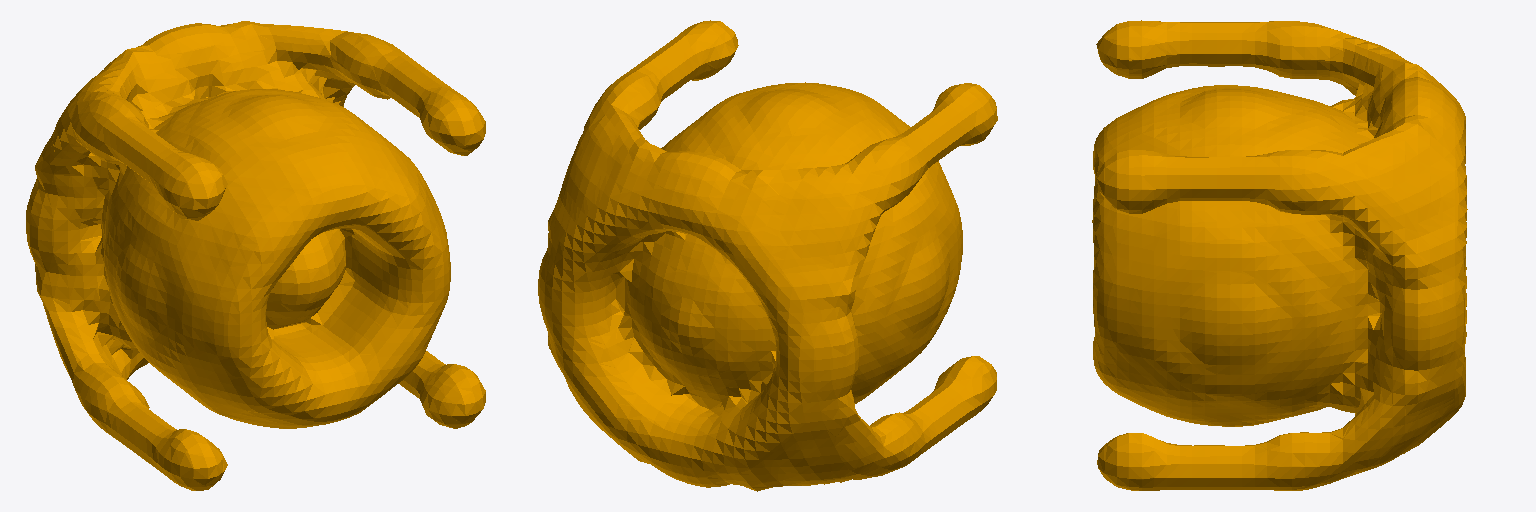
robot.urdf — object:
<?xml version="1.0"?>
        <robot name="object">
          <link name="object">
            <visual>
              <origin xyz="0.0 0.0 0.0"/>
              <geometry>
                <mesh filename="C5.stl" scale="1.00 1.00 1.00"/>
              </geometry>
            </visual>
            <collision>
              <origin xyz="0.0 0.0 0.0"/>
              <geometry>
                <mesh filename="C5.stl" scale="1.00 1.00 1.00"/>
              </geometry>
            </collision>
          </link>
        </robot>

--- Render facts (derived) ---
The picture shows the robot from 3 angles, left to right: view 1: azimuth 30°, elevation 25°; view 2: azimuth 150°, elevation 25°; view 3: azimuth 270°, elevation 25°; orthographic projection.
Model object with 1 links and 0 joints (none), rooted at object, posed all joints at 0.
Links seen in each view (by area): view 1: object; view 2: object; view 3: object.
Link boxes in pixels (left/top/right/bottom): object: left=26, top=21, right=485, bottom=490; object: left=538, top=20, right=997, bottom=491; object: left=1092, top=20, right=1467, bottom=490.
Size in the robot's own frame: 0.0992 by 0.1 by 0.0991 metres.
Meshes: 1 distinct files referenced, 1 mesh visuals loaded (1 binary STL).